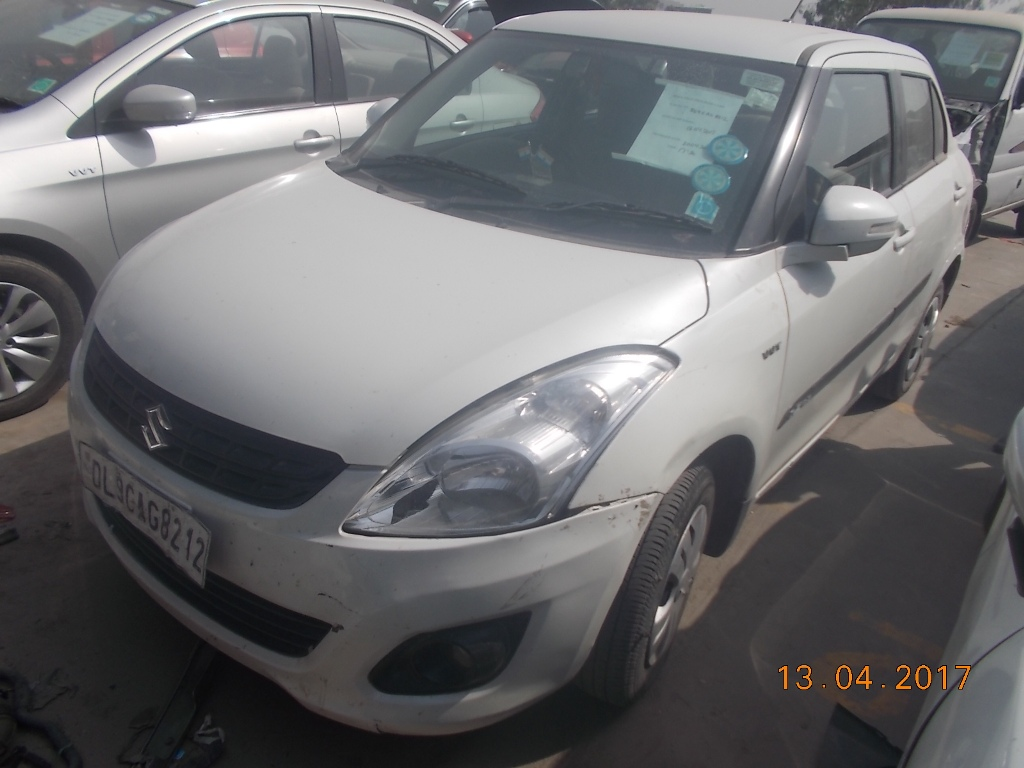Scratch_or_spot: (627, 498, 649, 532)
